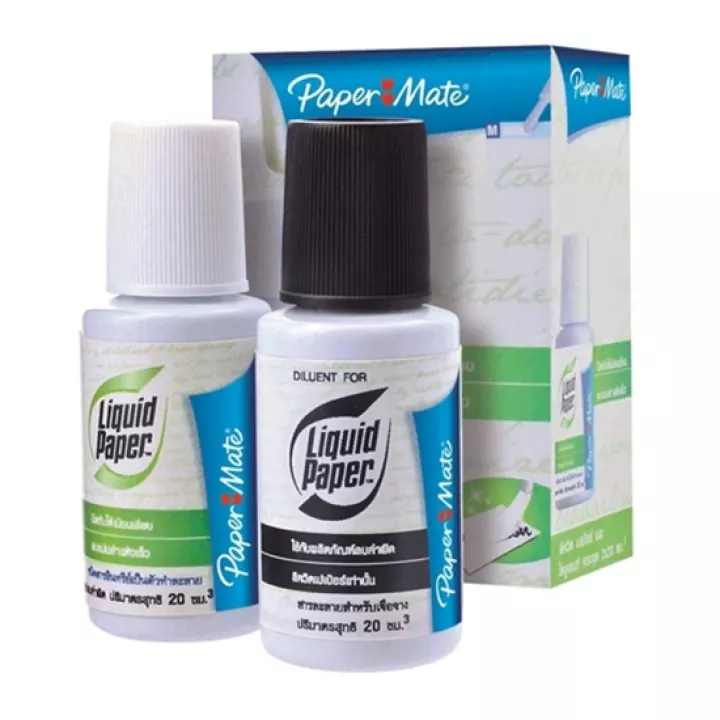Correction_fluid: (244, 110, 481, 681), (76, 107, 277, 651)
